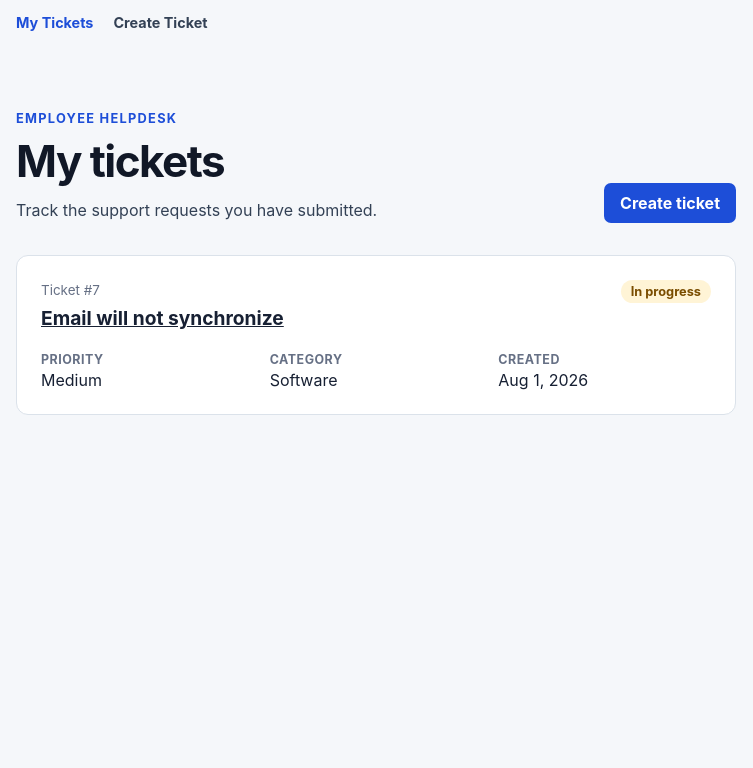
employee ticket list › navigates from a ticket link to its details route
The width and height of the screenshot is (753, 768).
What coordinates should you click on to do the following:
click the link "Email will not synchronize"
I would click on:
 (162, 318)
Its box is [41, 306, 284, 330].
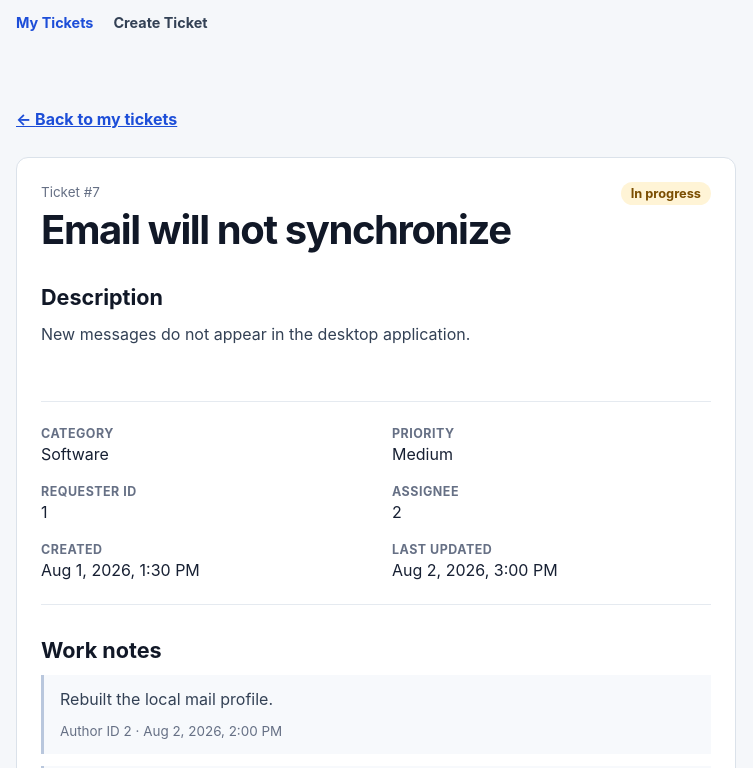
Expected: the heading "Email will not synchronize" is shown, [41, 208, 511, 252]
